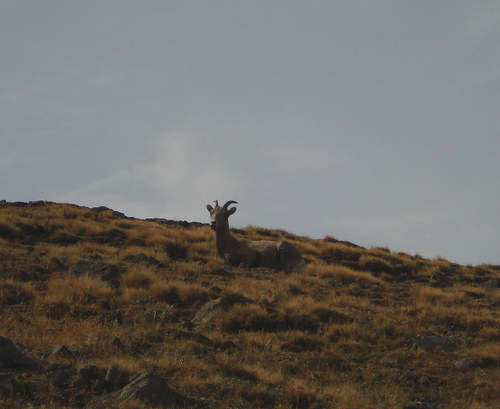goat: (207, 199, 307, 273)
